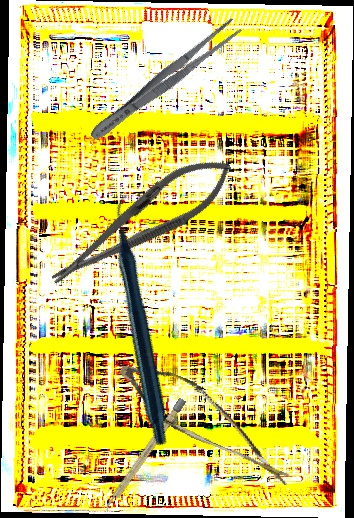Dressing Forceps: (85, 15, 244, 146)
Handpiece: (29, 190, 259, 449)
Micro Scissor: (104, 353, 314, 488)
Needle Holder: (38, 143, 244, 301)
Scalpel Handle: (102, 397, 187, 513)
